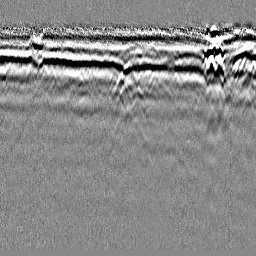cavity: (111, 59, 144, 99)
